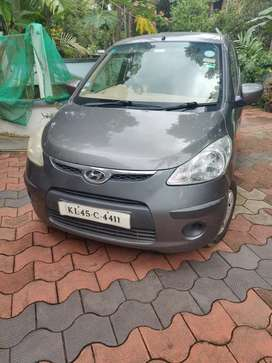KL45C4411: (58, 201, 130, 230)
